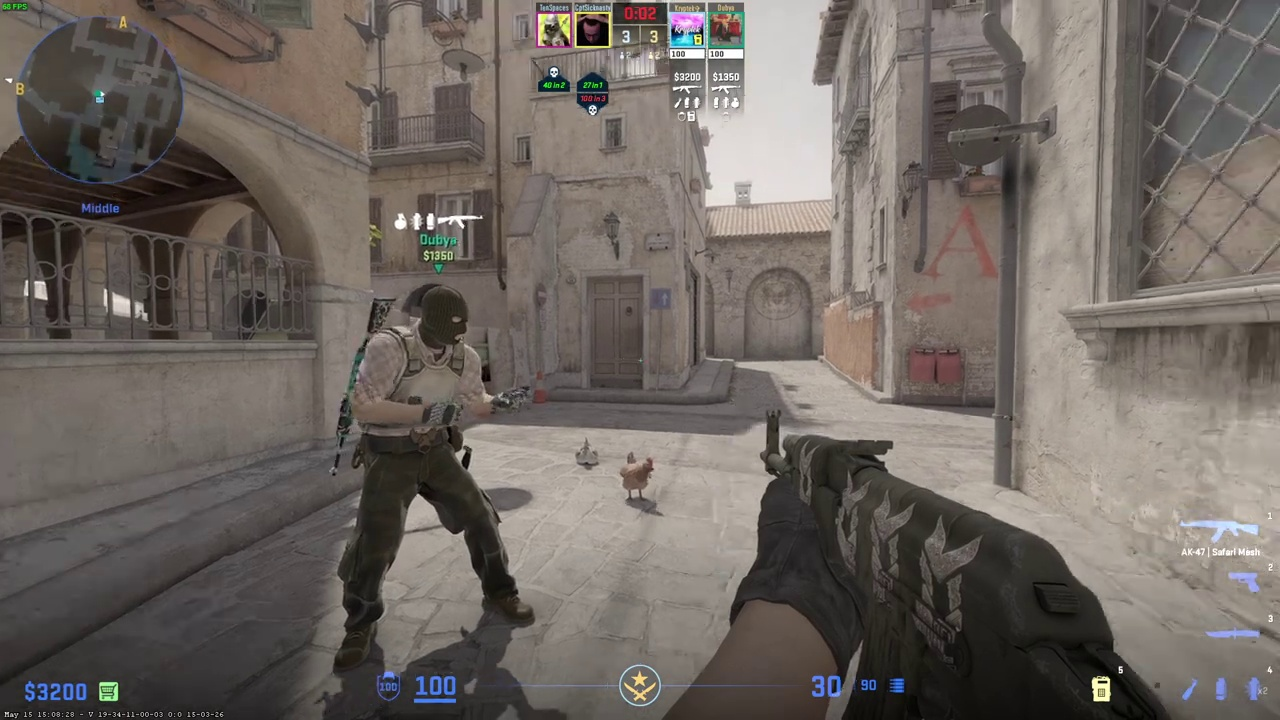Terrorist: (333, 285, 512, 674)
